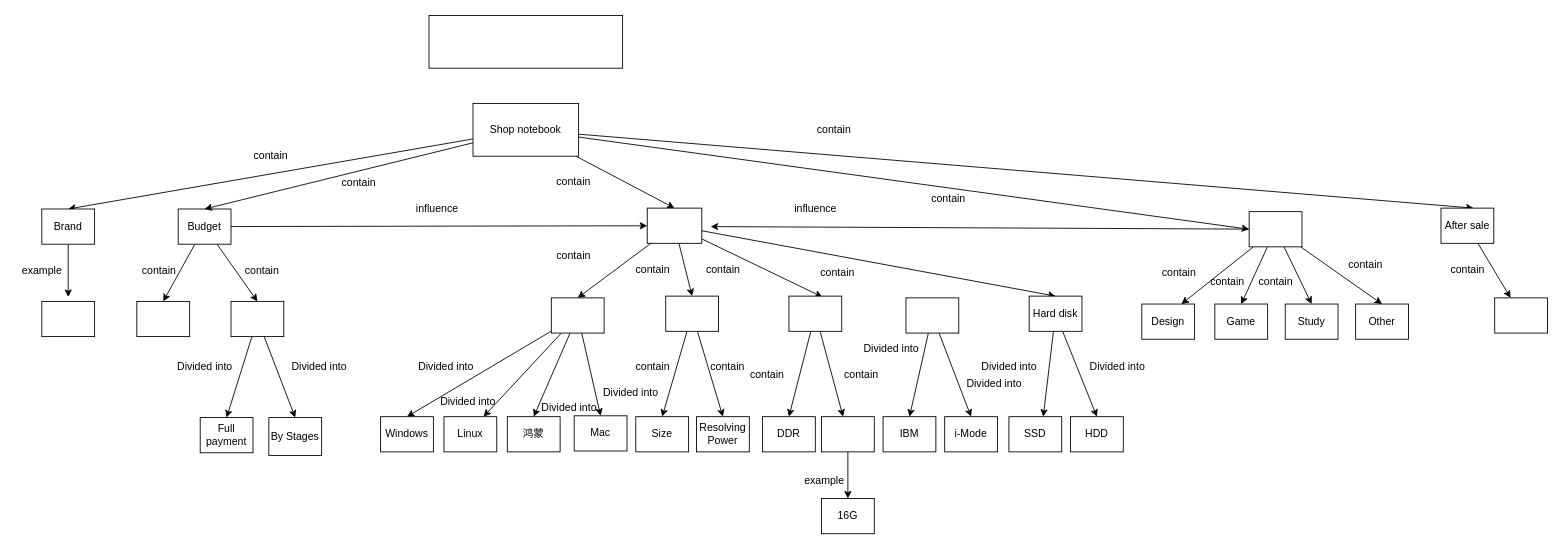
Some shapes in this 1563 by 549 pixel diagram are drawn without their labels. Here are the shapes that lost their labels. From the top down, the box of each, then its label:
(428, 15, 623, 68): How to buy a notebook for college students?
(646, 207, 702, 243): Configure
(1248, 211, 1302, 247): Purpose
(41, 301, 95, 337): LENOVO
(136, 301, 190, 337): Price
(230, 301, 284, 337): payment method
(550, 297, 604, 333): System
(665, 295, 719, 331): Screen
(788, 295, 842, 331): Memory module
(905, 297, 959, 333): GPU
(1494, 297, 1547, 333): Defects liability period
(821, 416, 874, 452): Memory
